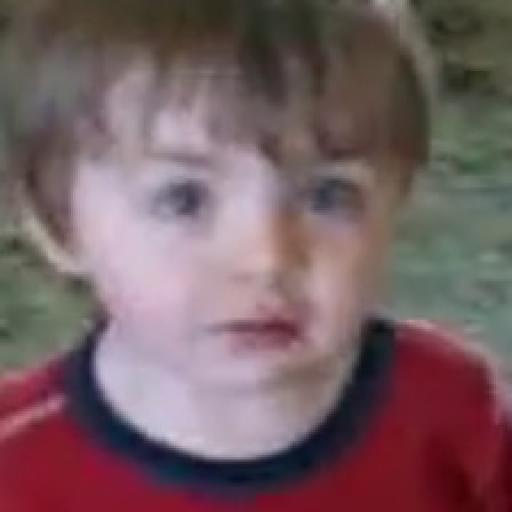Autism: (28, 12, 429, 412)
